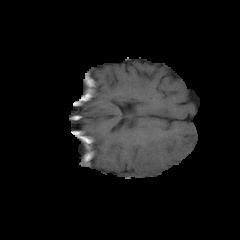glioma: (132, 131, 195, 172)
